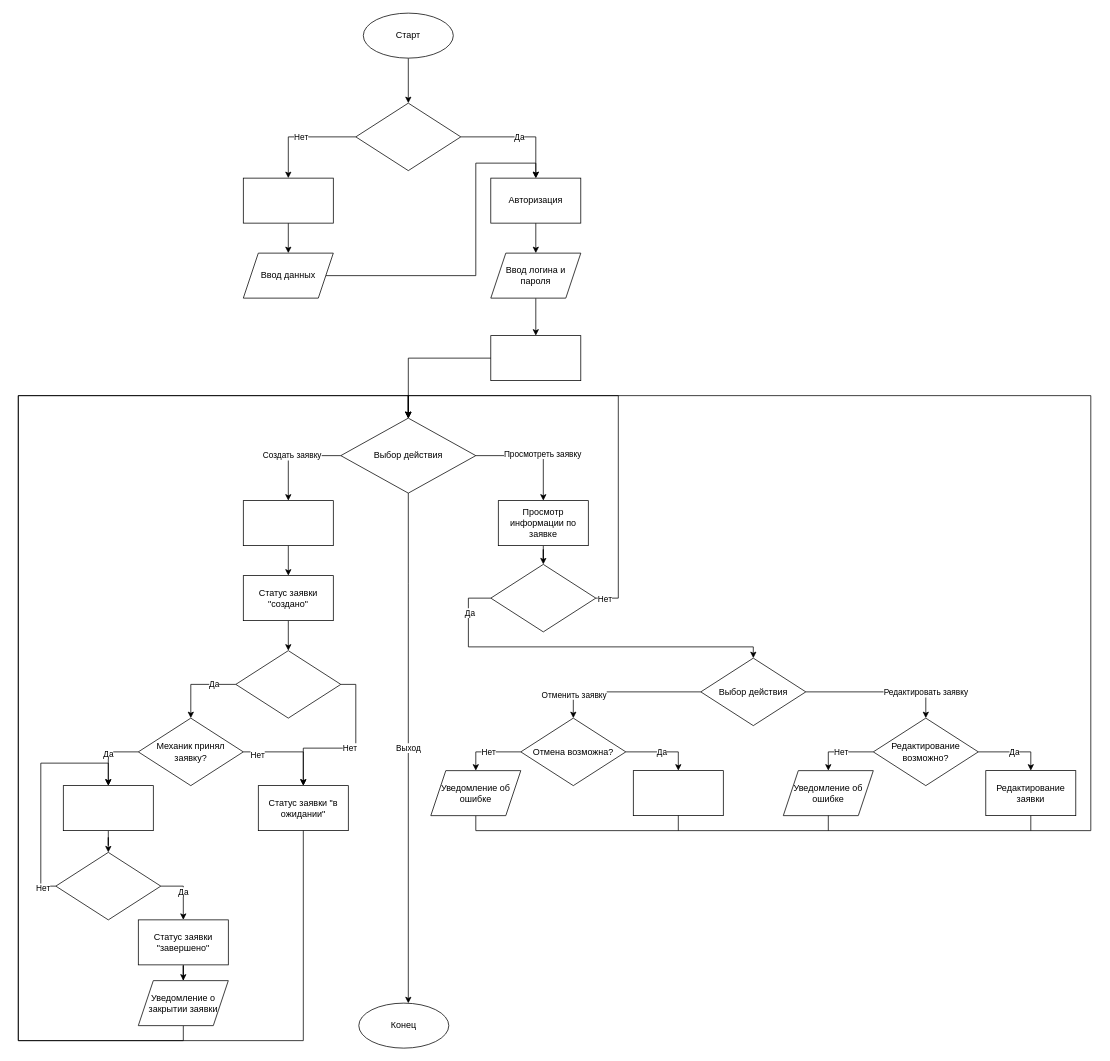
The diagram is 1110 pixels wide and 1061 high, and some of its shapes have lost their labels. Here are the shapes that lost their labels. From the top down, the box of each, then its label:
(355, 102, 461, 171): Пользователь зарегестрирован?
(243, 177, 333, 223): Регистрация
(490, 335, 581, 381): Переход на главное меню
(243, 500, 333, 546): Создание заявки
(490, 564, 596, 632): Необходимы изменения?
(235, 650, 341, 718): Менеджер назначил механика?
(63, 785, 153, 831): Статус заявки "в работе"
(633, 770, 723, 816): Отмена и закрытие заявки
(55, 852, 161, 920): Механик завершил заявку?
